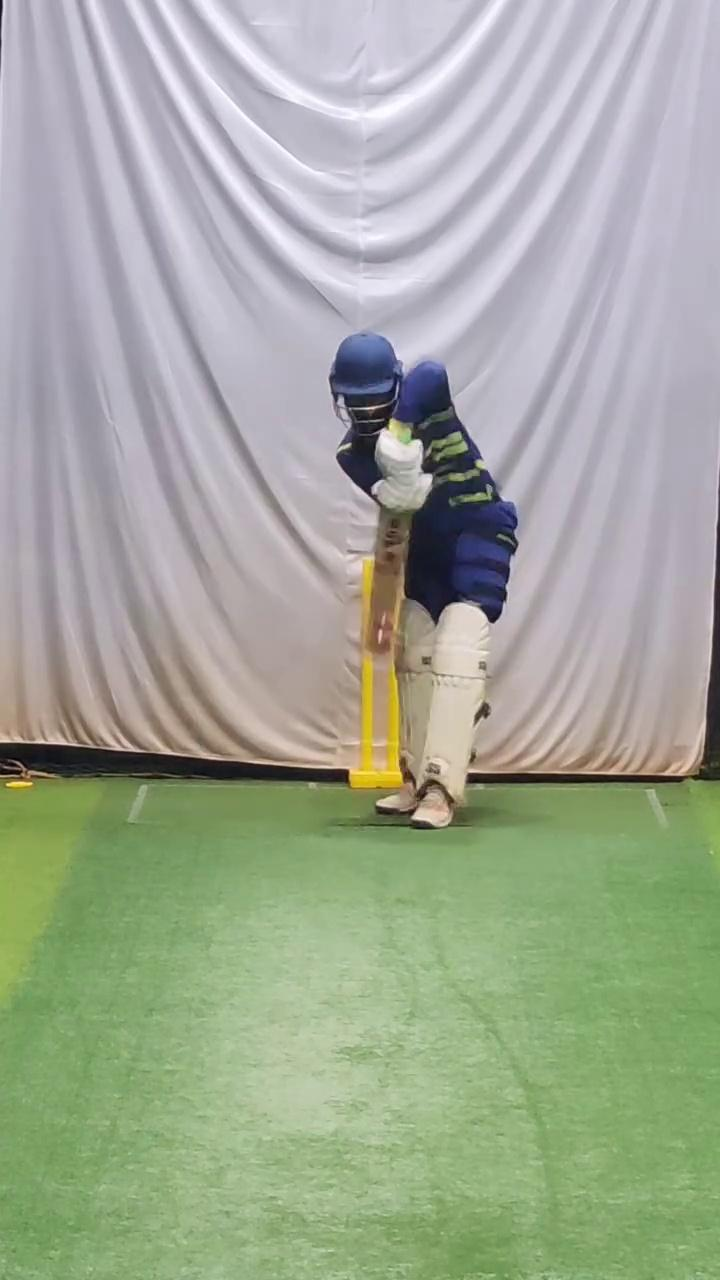bat: (360, 505, 412, 657)
